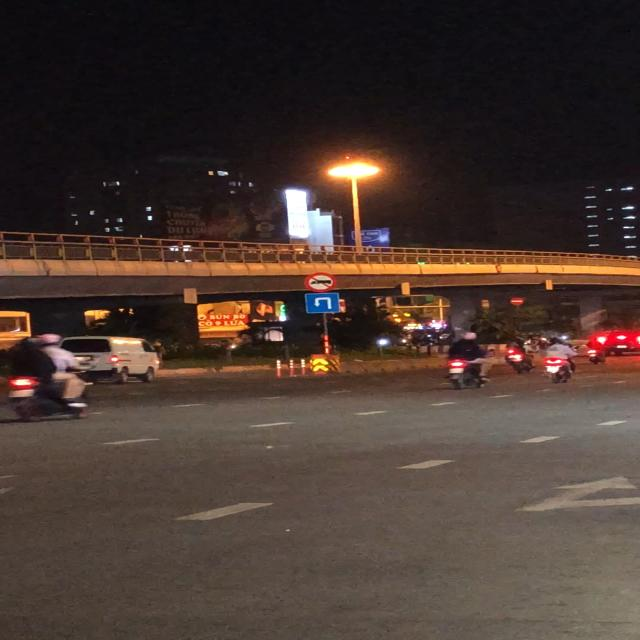Bien bao cam xe so-mi ro-mooc: (303, 272, 339, 292)
